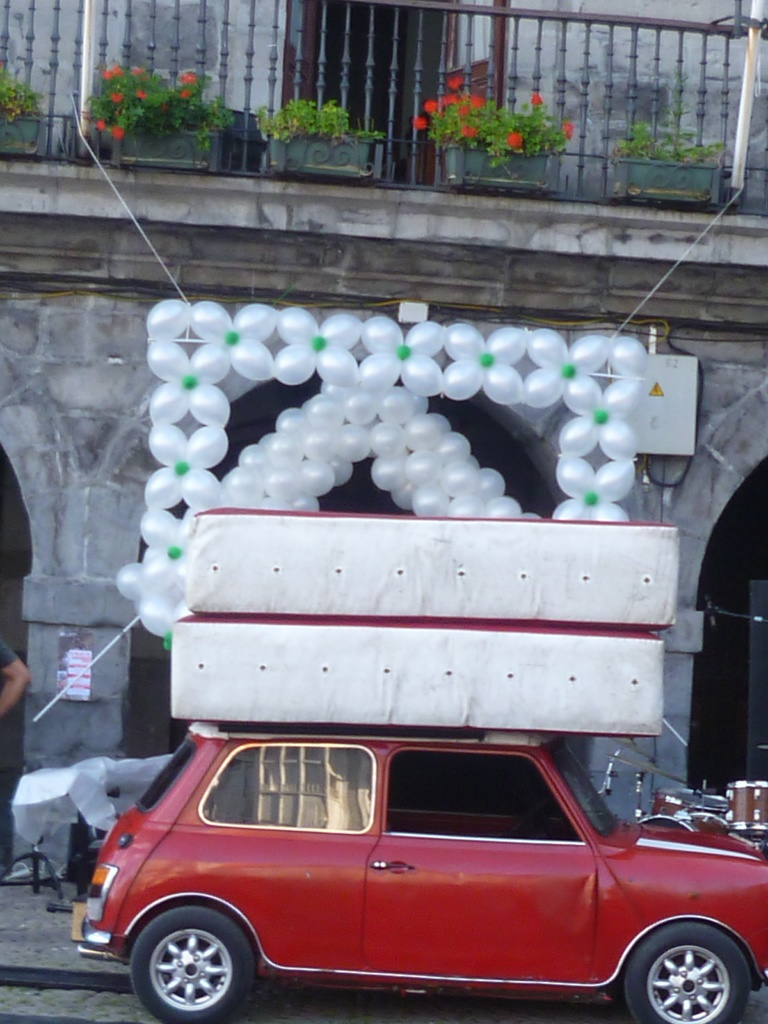cars: (76, 727, 759, 1018)
